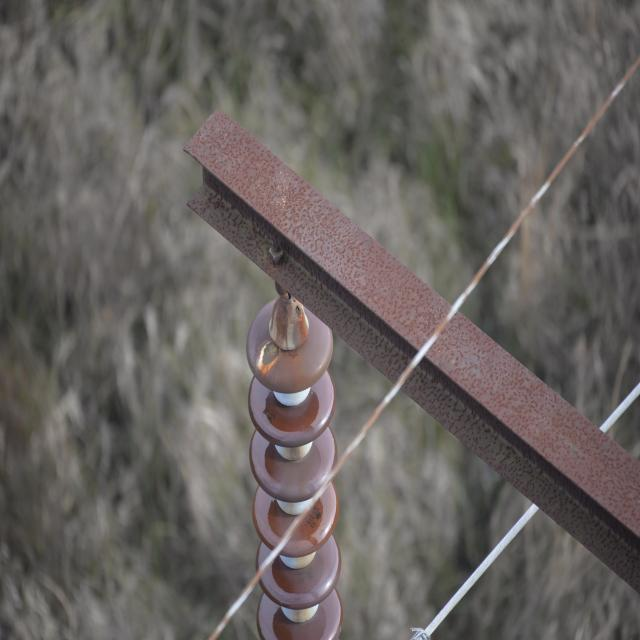insulator: (244, 295, 343, 640)
